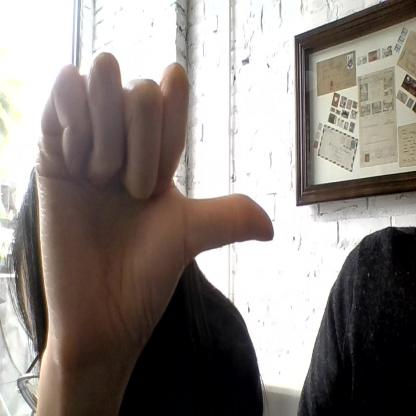left: (34, 52, 275, 341)
